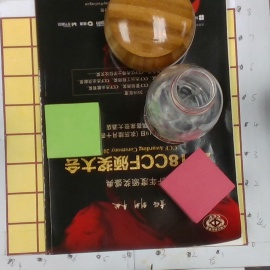bottle: (148, 64, 219, 147)
chess: (103, 1, 195, 68)
